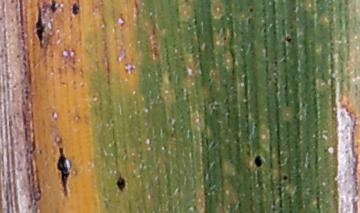tarspot: (54, 146, 73, 197), (33, 5, 45, 48), (115, 174, 128, 193), (252, 153, 264, 169), (70, 1, 82, 17), (47, 1, 59, 14), (285, 33, 292, 47), (281, 174, 289, 181), (247, 6, 255, 13), (221, 35, 227, 41), (182, 1, 190, 4)
